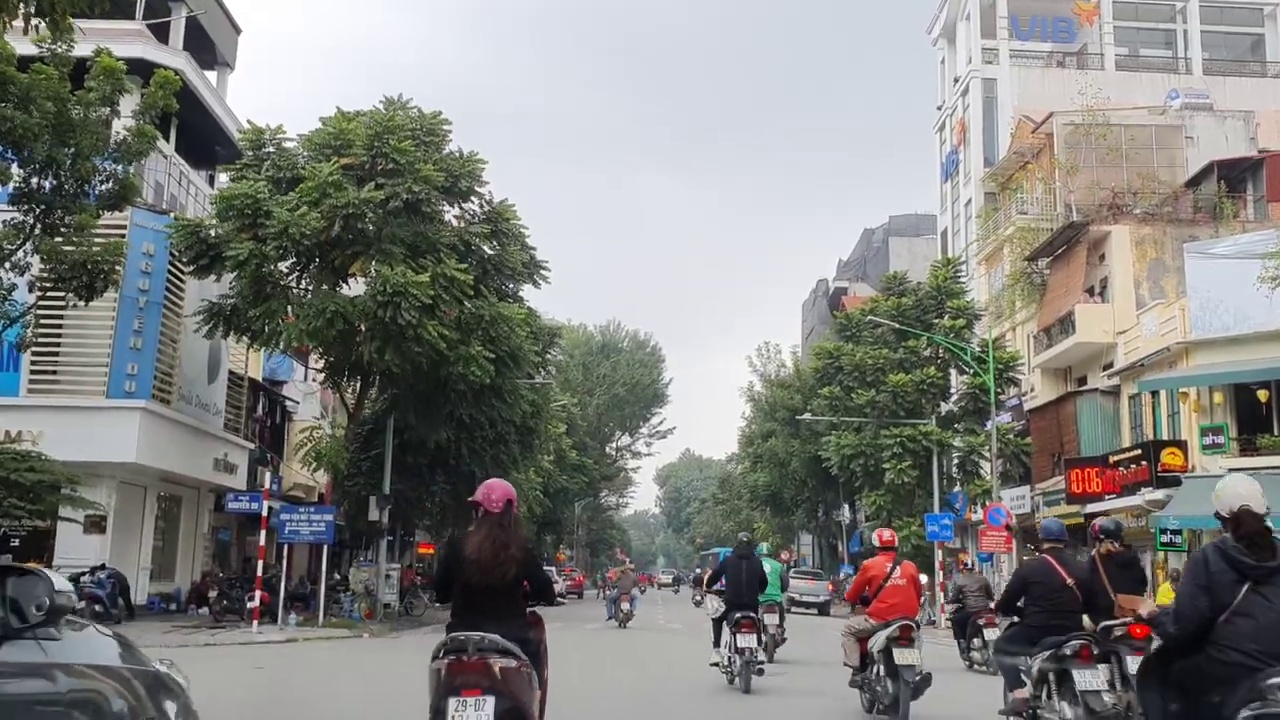person: (1071, 668, 1111, 690), (890, 647, 926, 666), (733, 630, 758, 647), (980, 627, 1002, 641), (762, 609, 783, 623), (619, 600, 632, 609), (800, 592, 816, 599)
